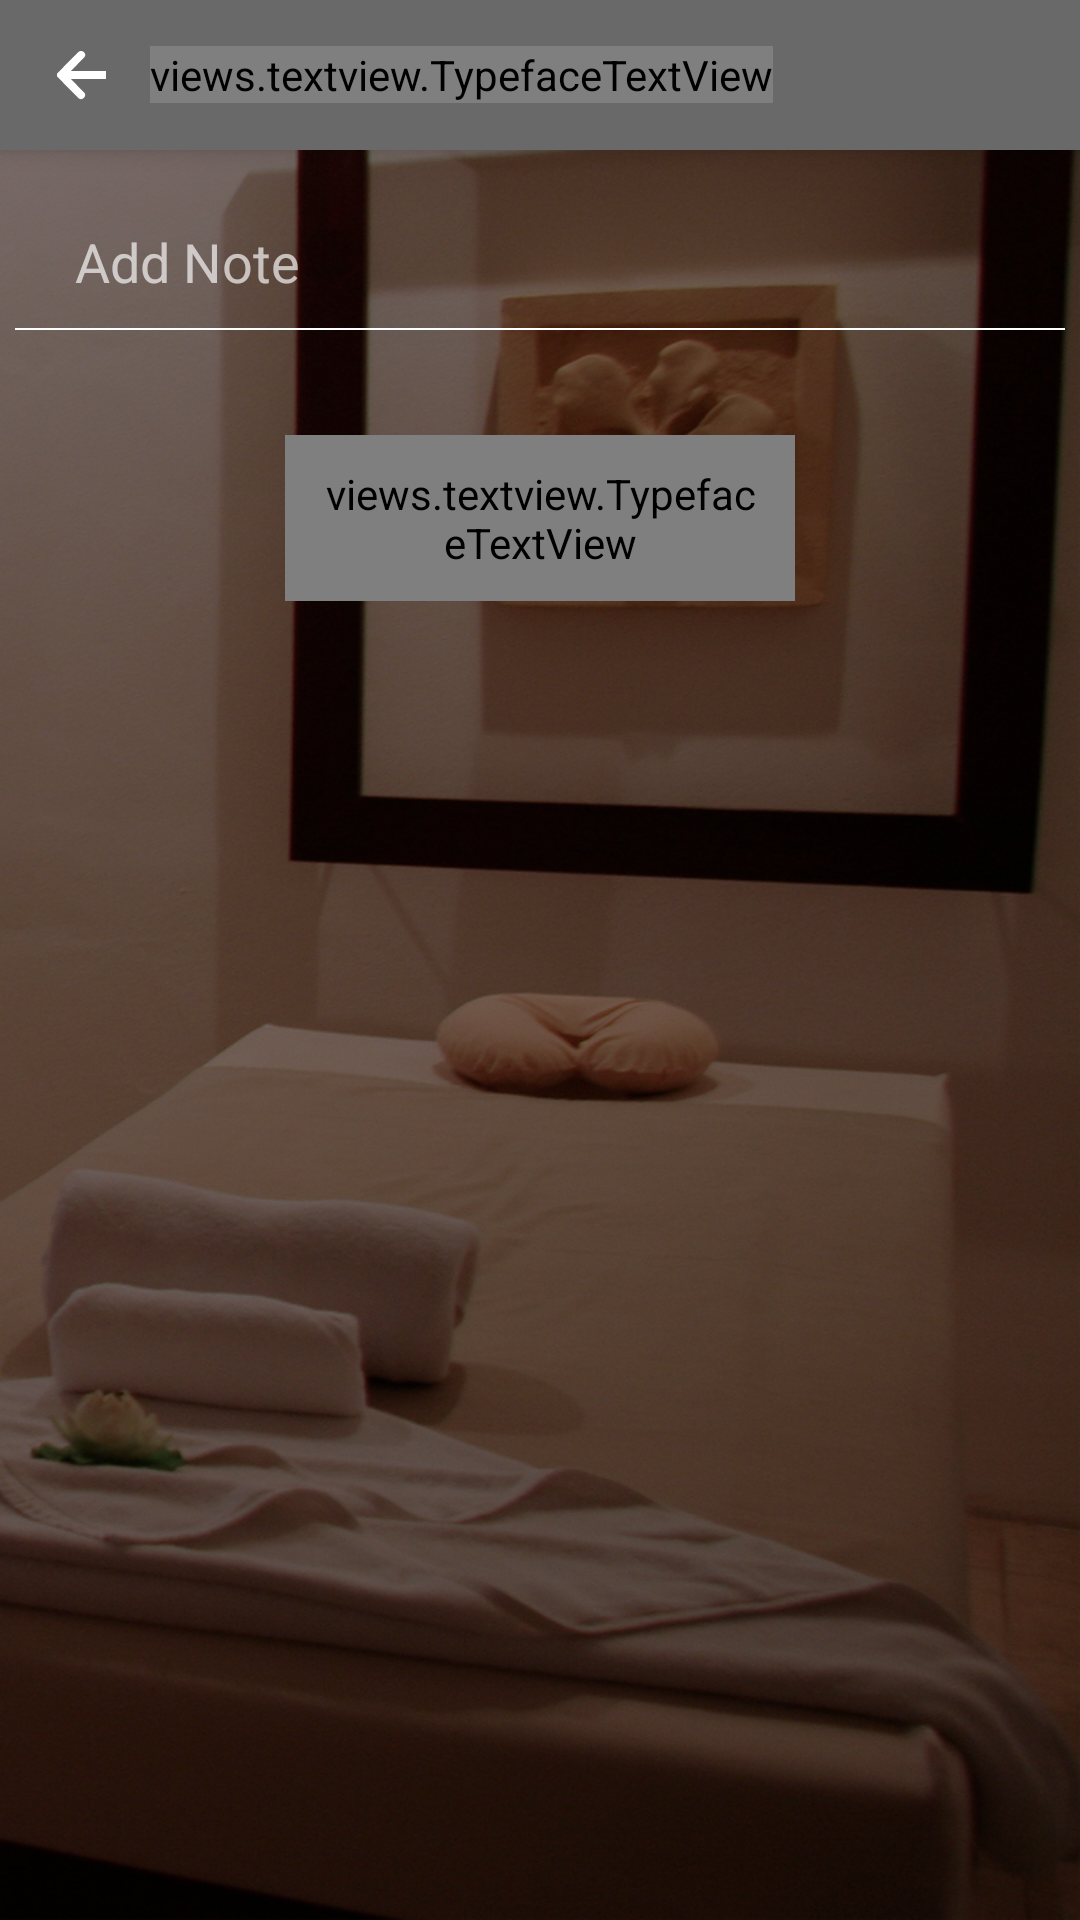

Named icons in this screenshot (1080w x 1920h) and their bounding boxes, bbox(x1, y1, x2, y2):
leftarrow: bbox(57, 51, 106, 99)
